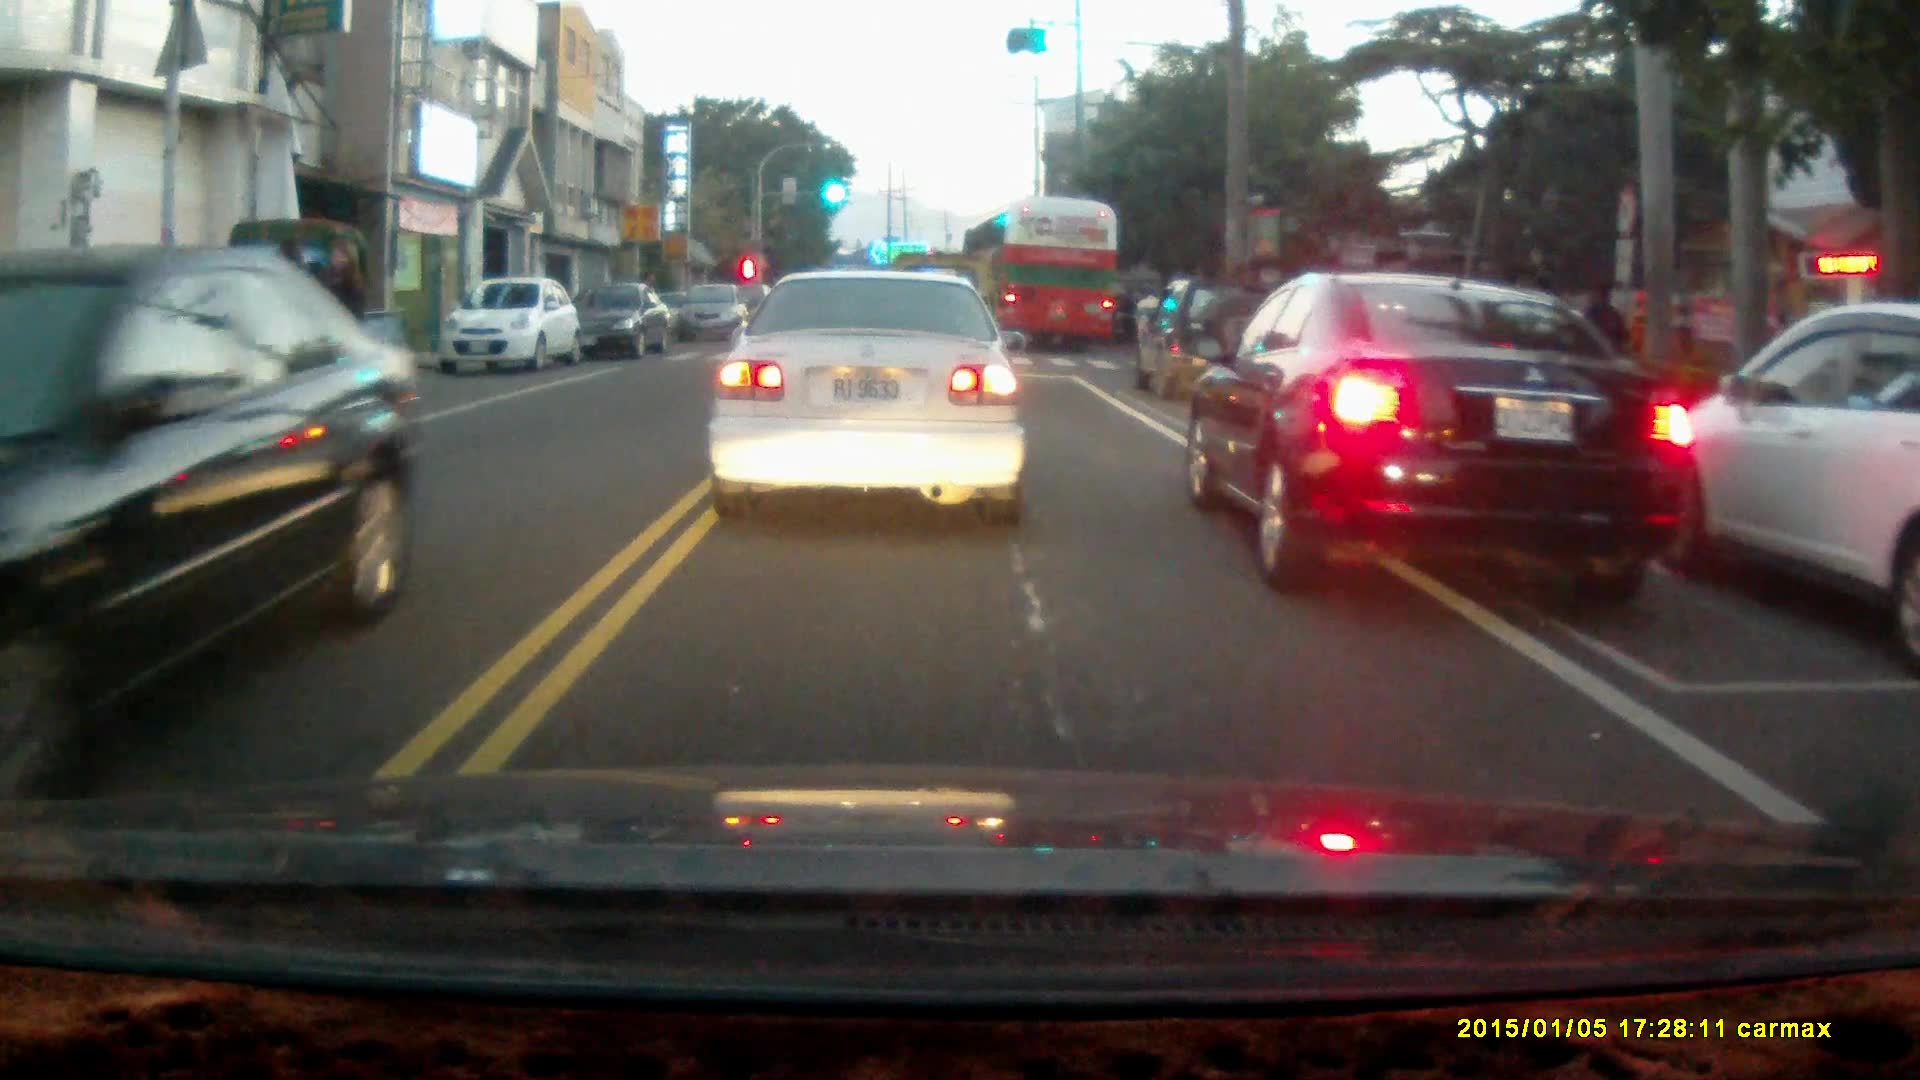pedestrian: (314, 236, 367, 429), (1579, 281, 1626, 402)
vehicle: (1, 251, 416, 770), (1186, 275, 1702, 590), (1632, 299, 1920, 612), (706, 265, 1030, 527), (176, 214, 417, 409), (963, 201, 1118, 357), (1139, 279, 1284, 403), (444, 279, 587, 378), (568, 278, 676, 363), (677, 285, 755, 344)
